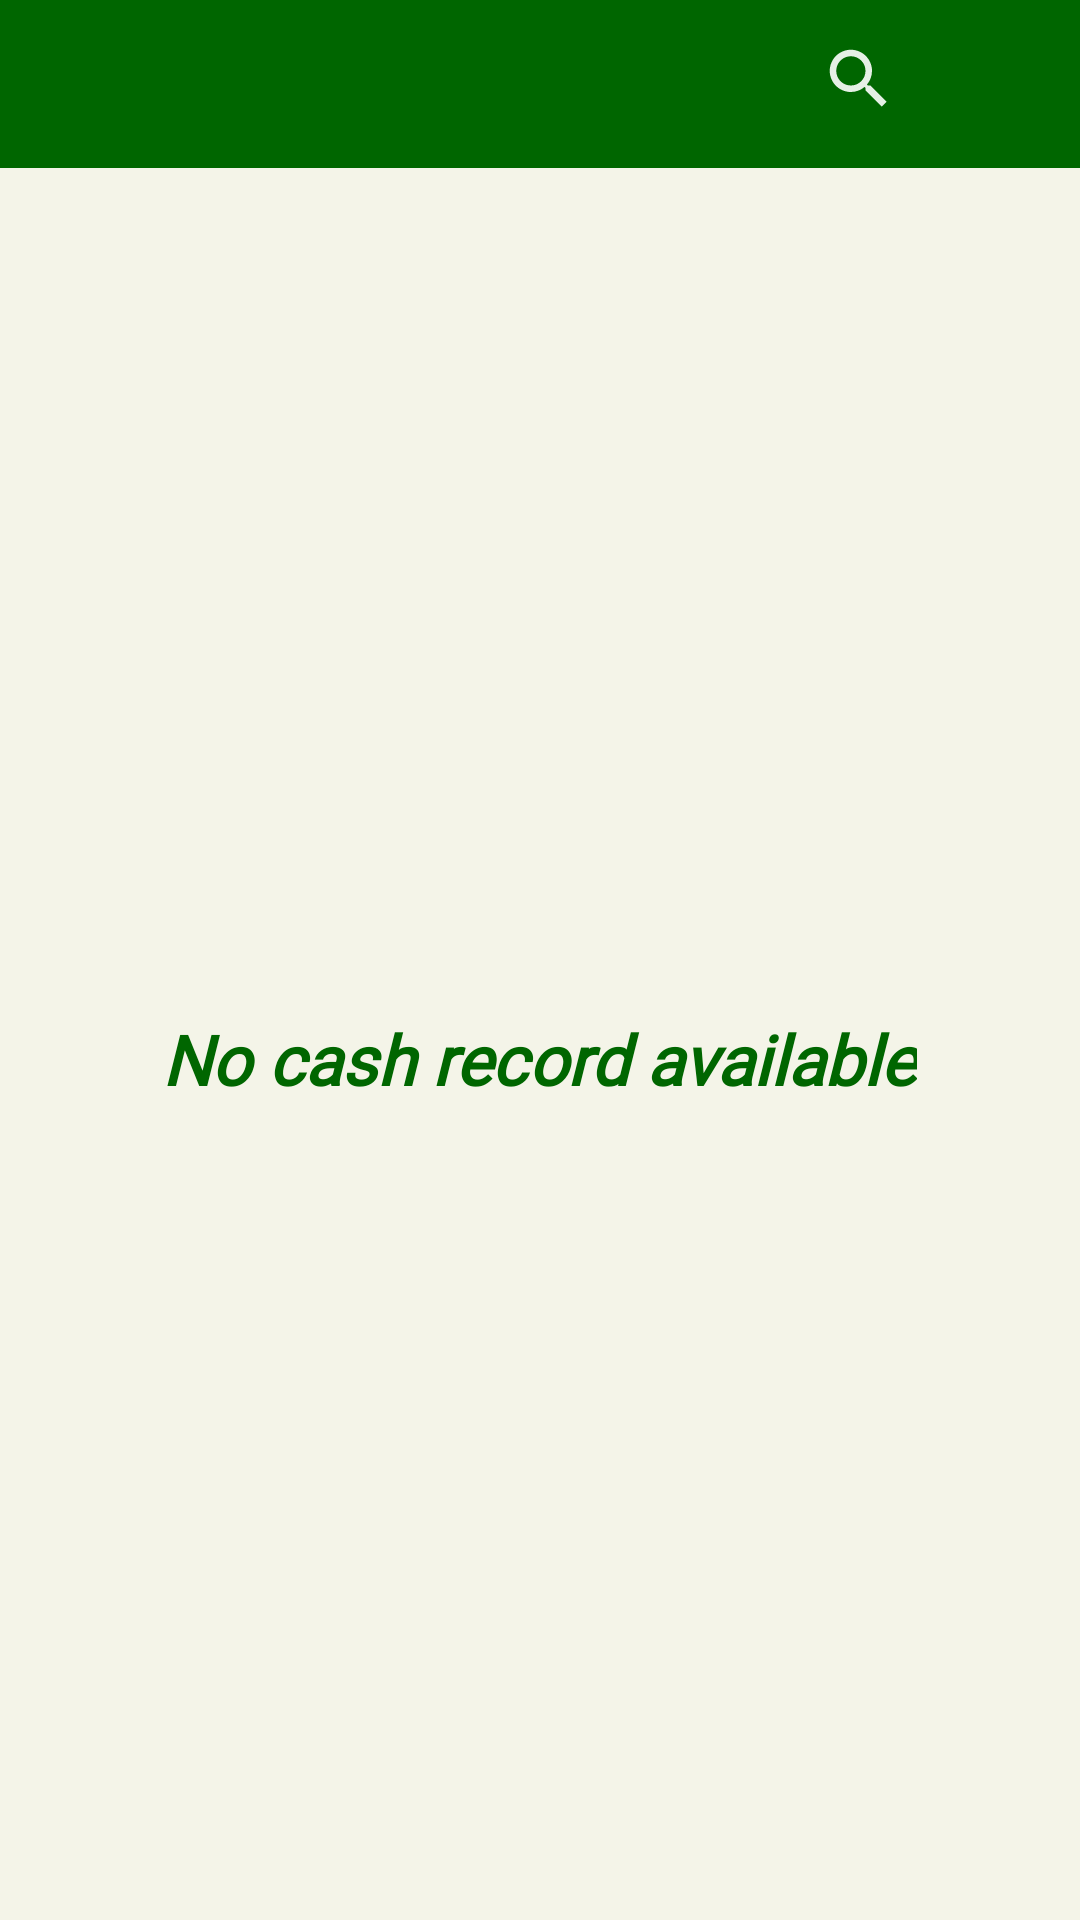

Icon click points for this 1080x1920 phone screenshot, format point (x, y):
to search: point (858, 78)
